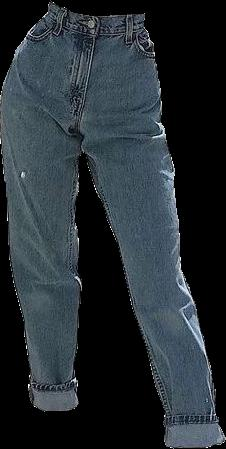Hemline: (29, 398, 81, 411), (165, 439, 225, 448)
Pantleg: (78, 13, 225, 448), (0, 2, 94, 411)
Waistline: (44, 15, 146, 37), (49, 2, 143, 19)
